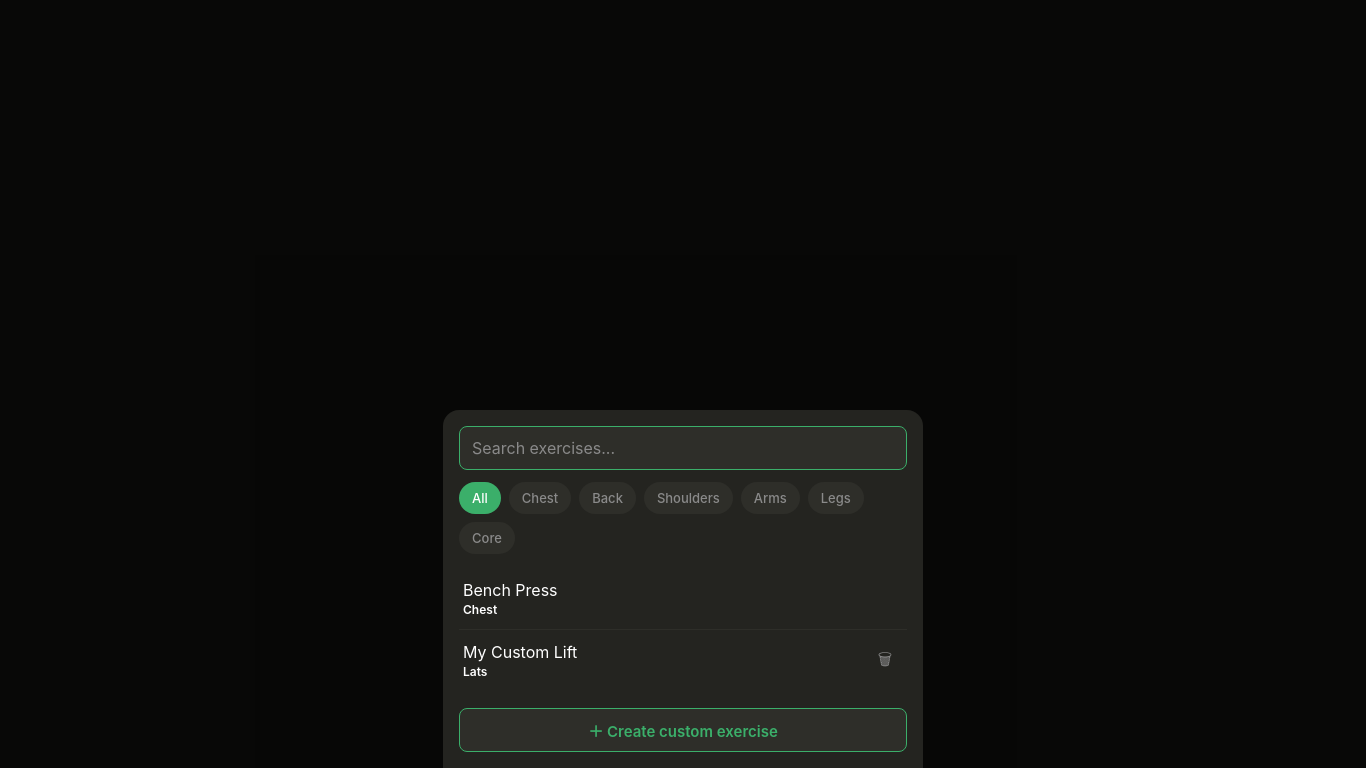
delete flow › zero-variant custom delete renders simple Modal (no radio choice)
The image size is (1366, 768).
expect the text "My Custom Lift" is shown: met, box x1=463 y1=642 x2=577 y2=662
What coordinates should you click on to do the following:
click the button named "Delete My Custom Lift"
I would click on:
 (885, 661)
Its box is x1=863 y1=639 x2=907 y2=683.
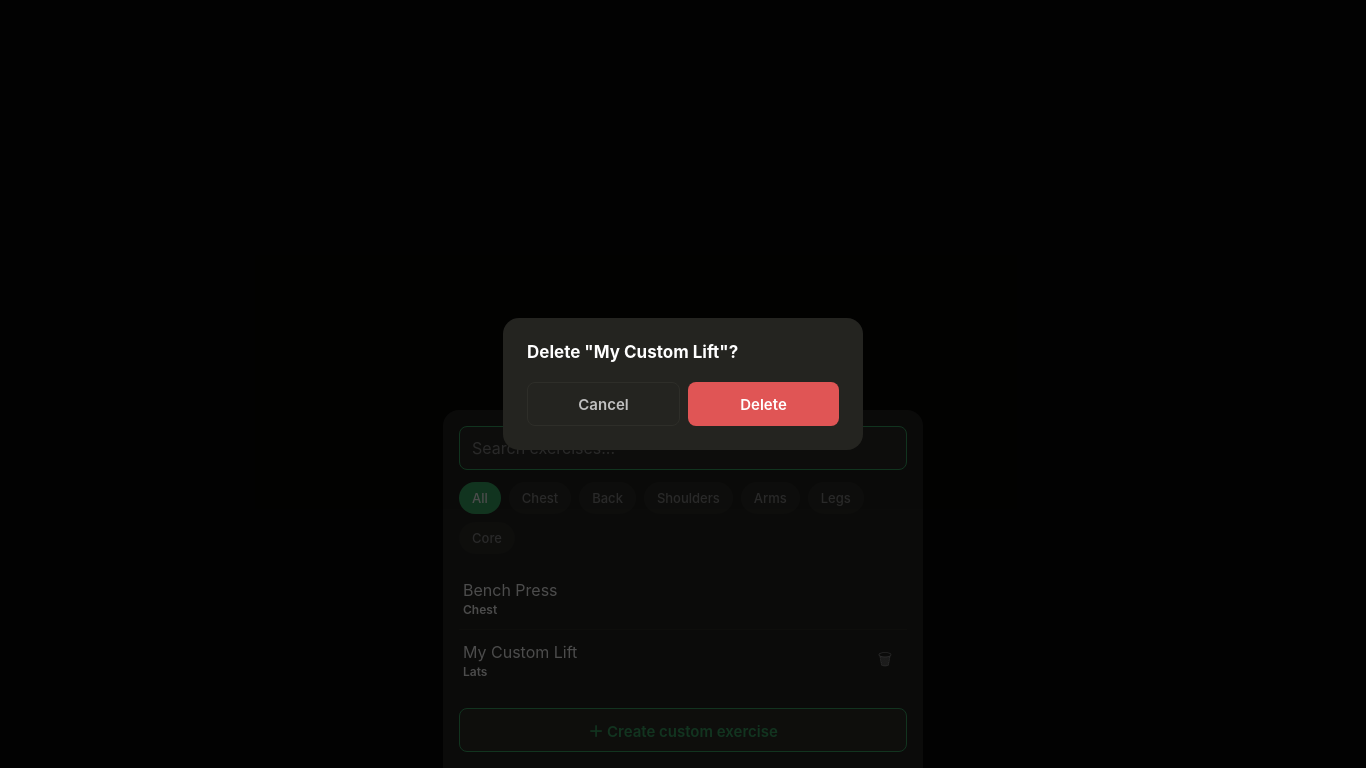
expect the heading "Delete \"My Custom Lift\"?" is shown: met, box x1=527 y1=342 x2=738 y2=362
